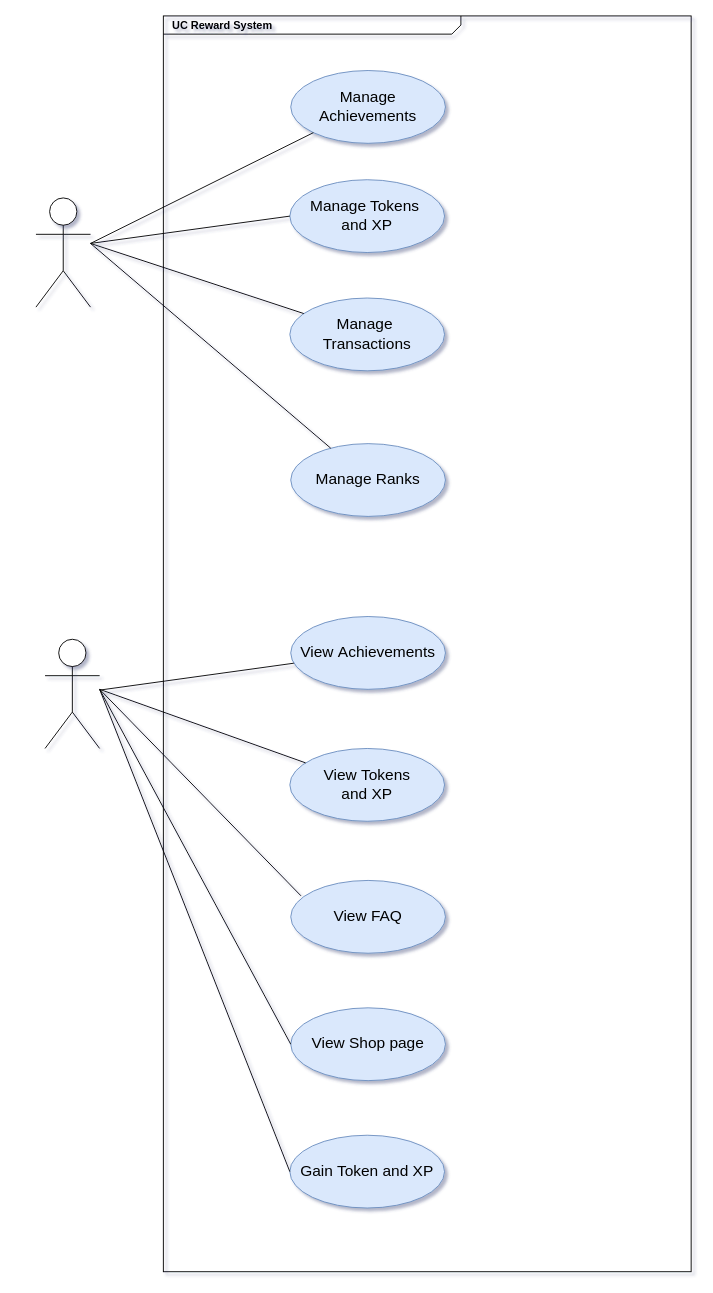
Some shapes in this 713 by 1293 pixel diagram are drawn without their labels. Here are the shapes that lost their labels. From the top down, the centre of each, then its label:
At point (63, 252): "Admin".
At point (72, 693): "Subcontractor".
